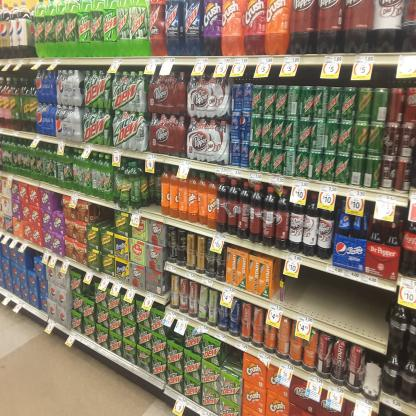empty_space: (271, 257, 394, 349)
